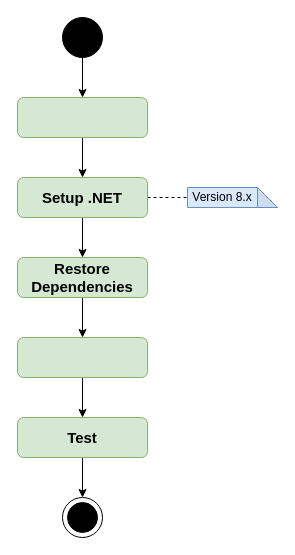
This 295x555 diagram has some shape labels left out. The box of each missing label's shape, as (x1, y1, x2, y2) in pixels:
Build: (16, 336, 148, 378)
Checkout: (16, 96, 148, 138)
